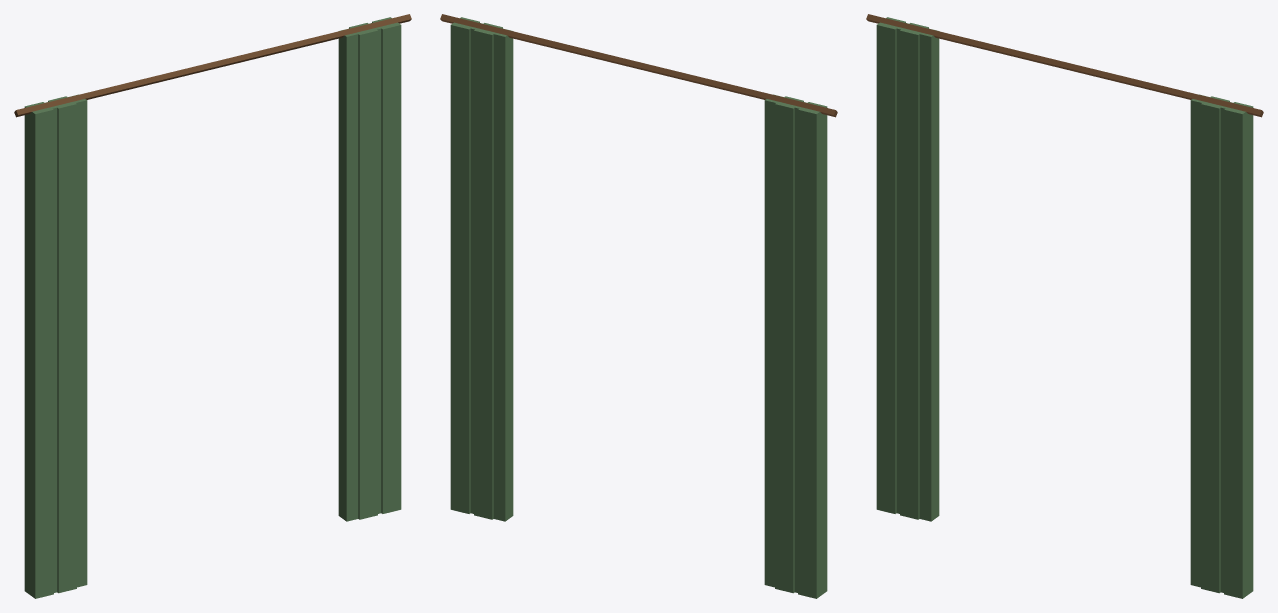
File: GH_Curtains_Open_01.glb
3 views of the same model, side by side, from view 1: azimuth 30°, elevation 25°; view 2: azimuth 150°, elevation 25°; view 3: azimuth 330°, elevation 25° (orthographic).
Visible parts, largest first — view 1: GH_Curtains_Open_01; view 2: GH_Curtains_Open_01; view 3: GH_Curtains_Open_01.
Boxes of the visible parts, x1,y1,x2,y2 form: GH_Curtains_Open_01: (14, 14, 411, 598); GH_Curtains_Open_01: (440, 14, 837, 598); GH_Curtains_Open_01: (866, 14, 1263, 598).
Size of the model in its own units: 1.7 by 2.02 by 0.08.
1 material, 1 textured.
